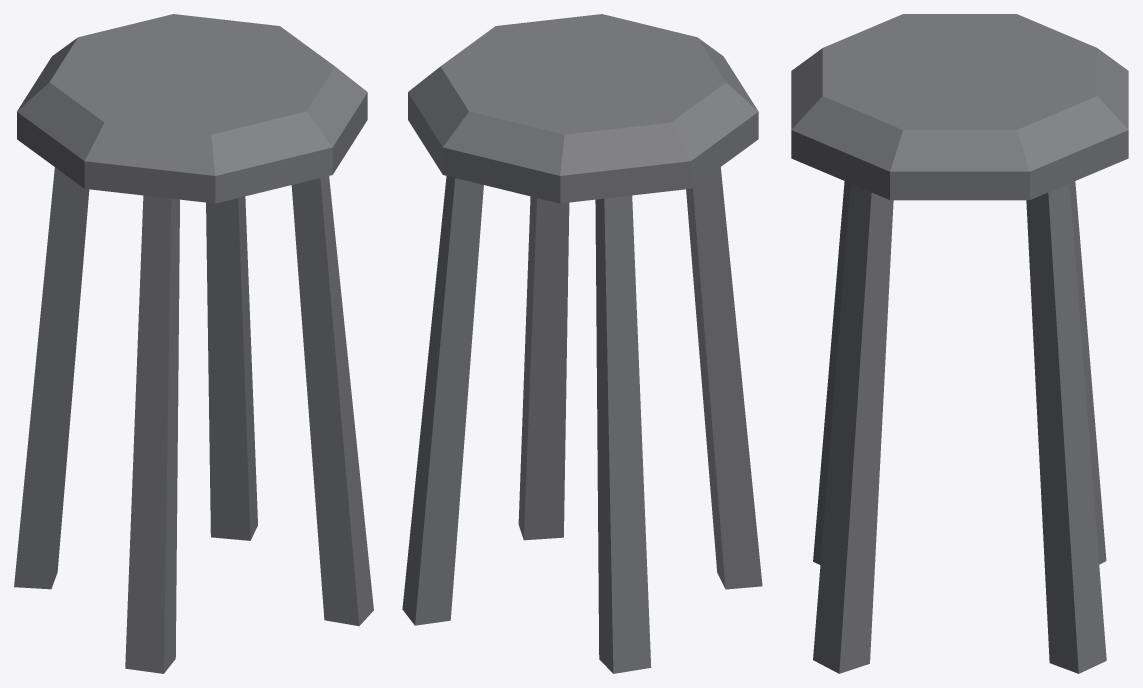
Rendered from stool-tall.fbx.
The picture shows the model from 3 angles, left to right: view 1: azimuth 30°, elevation 25°; view 2: azimuth 150°, elevation 25°; view 3: azimuth 270°, elevation 25°; orthographic projection. The views are drawn at different scales.
Visible parts, largest first — view 1: stool_tall; view 2: stool_tall; view 3: stool_tall.
Part boxes in pixels (x1,y1,x2,y2): stool_tall: [14, 14, 373, 673]; stool_tall: [402, 14, 762, 673]; stool_tall: [791, 14, 1128, 673].
Size of the model in its own units: 46.15 by 81.46 by 46.15.
